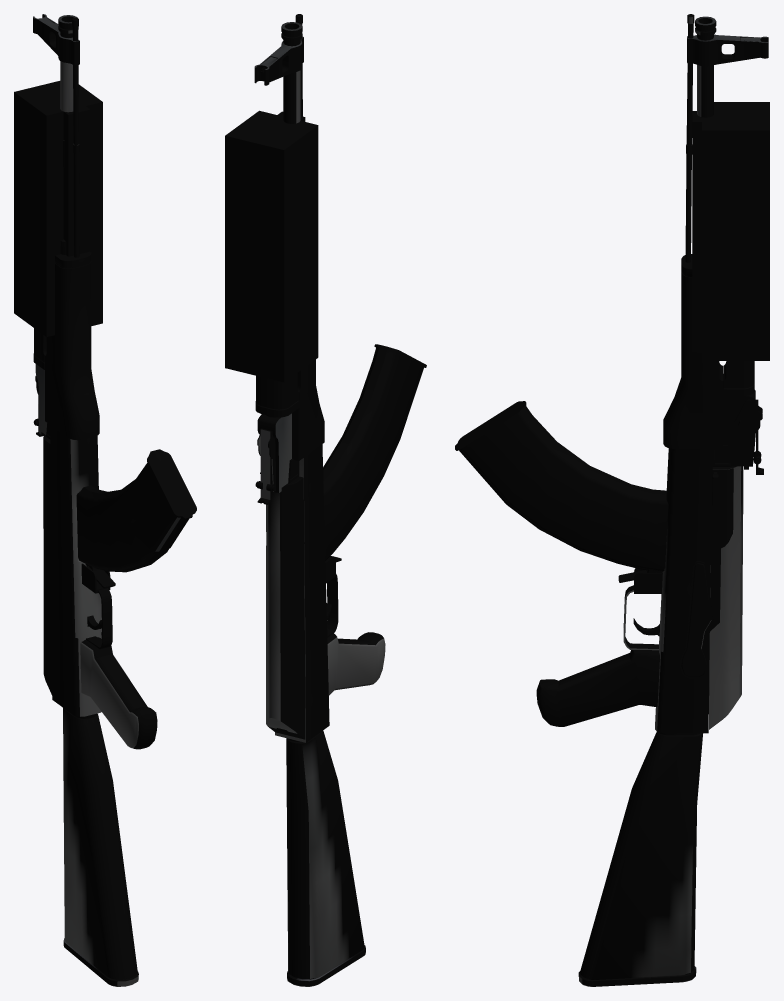
Rendered from AK47__Handguard_AK_Quad.fbx.
The picture shows the model from 3 angles, left to right: view 1: azimuth 30°, elevation 25°; view 2: azimuth 150°, elevation 25°; view 3: azimuth 270°, elevation 25°; orthographic projection. The views are drawn at different scales.
Parts seen in each view (by area): view 1: asset_AK47.001; view 2: asset_AK47.001; view 3: asset_AK47.001.
Boxes of the visible parts, <box> form: asset_AK47.001: <box>14,14,196,986</box>; asset_AK47.001: <box>225,14,426,986</box>; asset_AK47.001: <box>455,14,769,986</box>.
Size of the model in its own units: 0.0336 by 0.528 by 0.1561.
